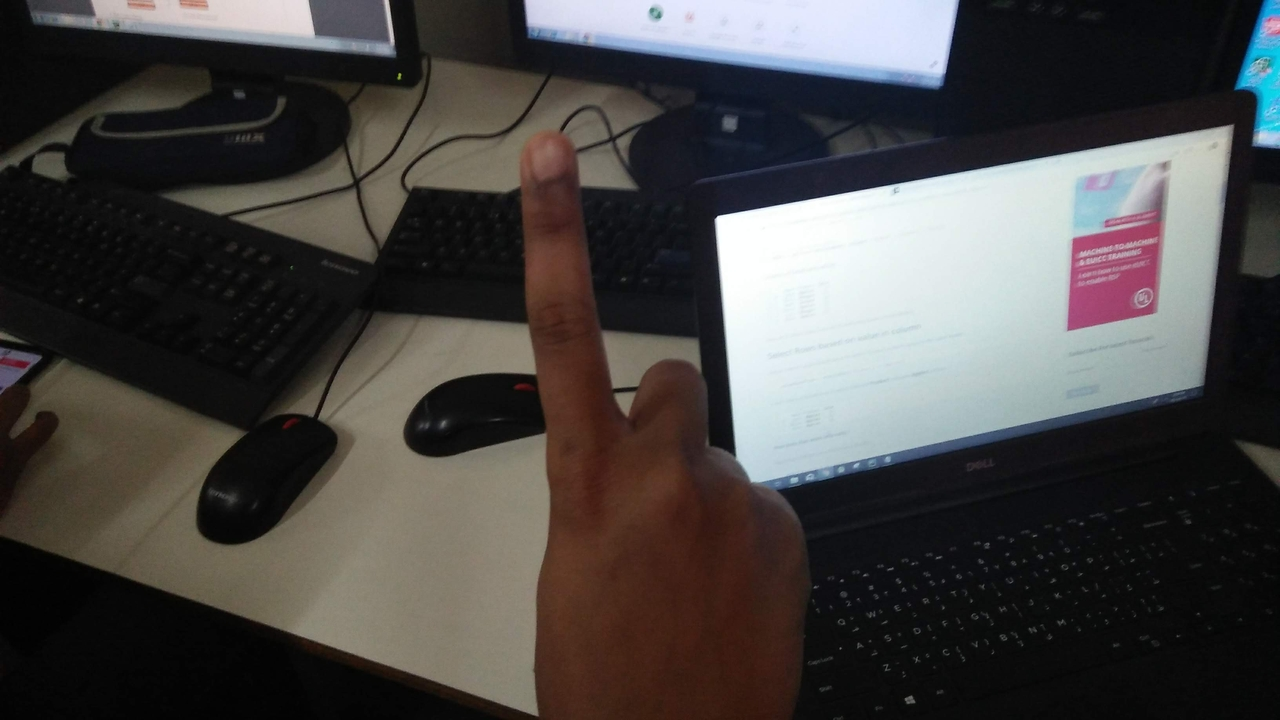fingertip: (514, 126, 582, 190)
